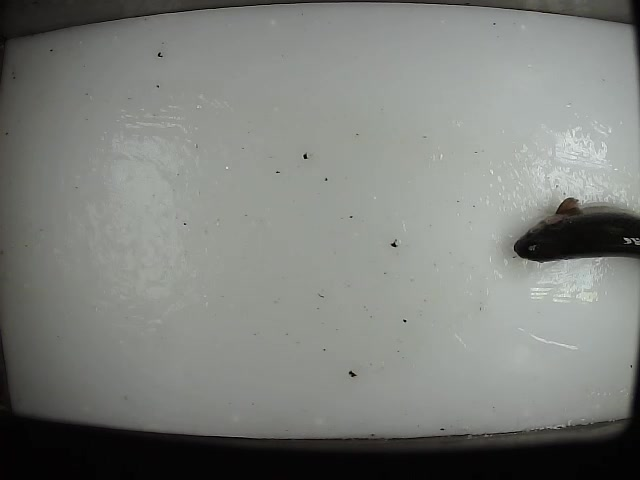fish: (512, 196, 640, 265)
